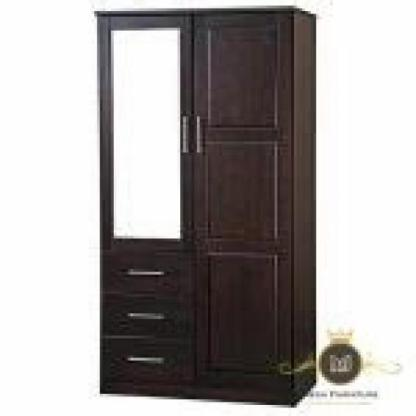Closet: (95, 12, 322, 400)
